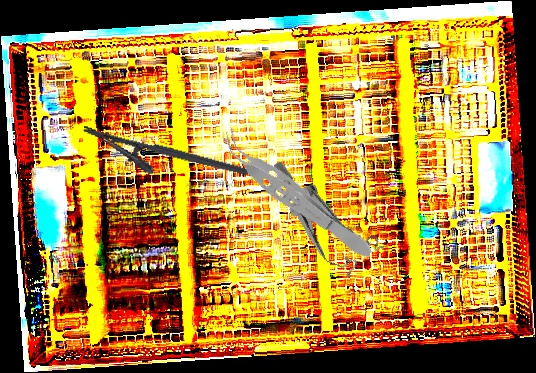Needle Holder: (76, 123, 250, 200)
Speculum: (245, 159, 392, 286)
Tissue Forceps: (212, 126, 380, 266)
